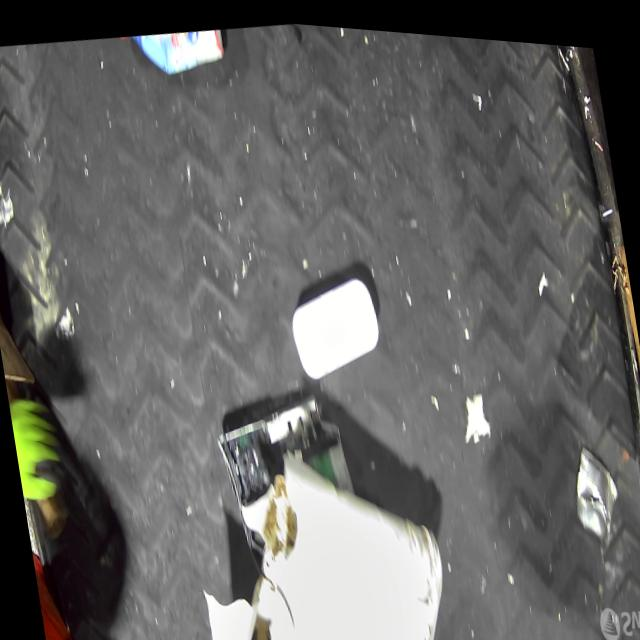can: (566, 430, 626, 540)
